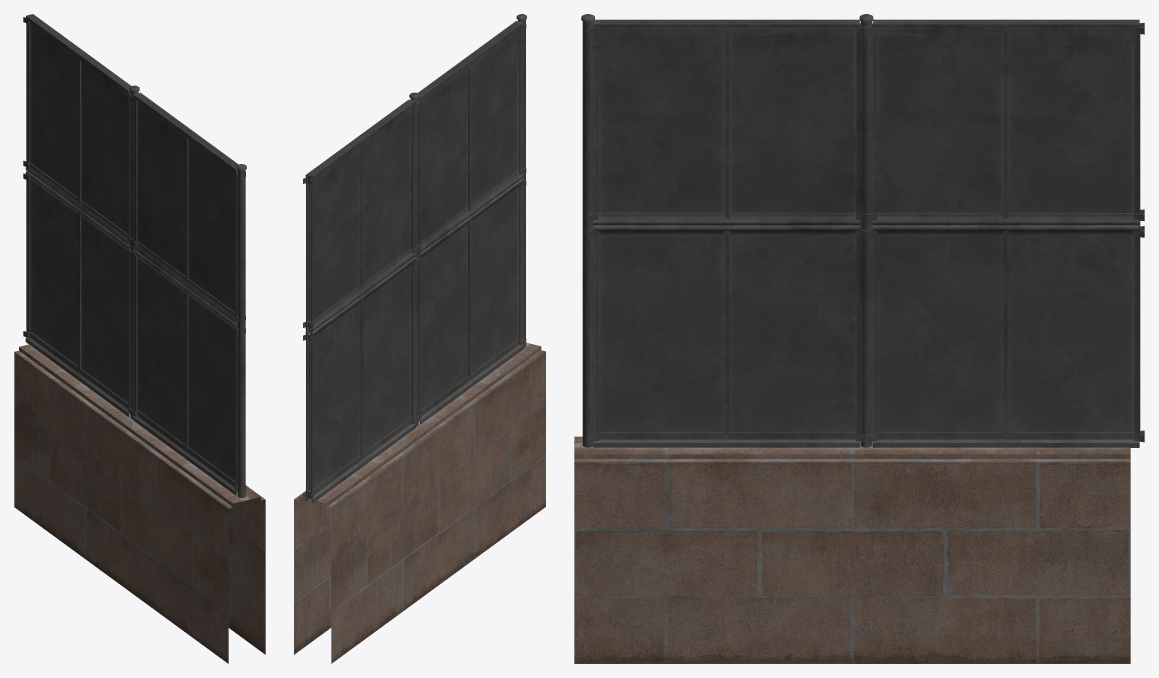
File: SM_Fence_02.fbx
3 views of the same model, side by side, from view 1: azimuth 30°, elevation 25°; view 2: azimuth 150°, elevation 25°; view 3: azimuth 270°, elevation 25° (orthographic). The views are drawn at different scales.
Visible parts, largest first — view 1: SM_Fence_02_LOD0; view 2: SM_Fence_02_LOD0; view 3: SM_Fence_02_LOD0.
Part boxes in pixels (x1=…): SM_Fence_02_LOD0: x1=14, y1=14, x2=265, y2=663; SM_Fence_02_LOD0: x1=294, y1=14, x2=545, y2=663; SM_Fence_02_LOD0: x1=574, y1=14, x2=1144, y2=663.
Bounding box in the file's own units: 20 × 205 × 252.
2 materials, 2 textured.
